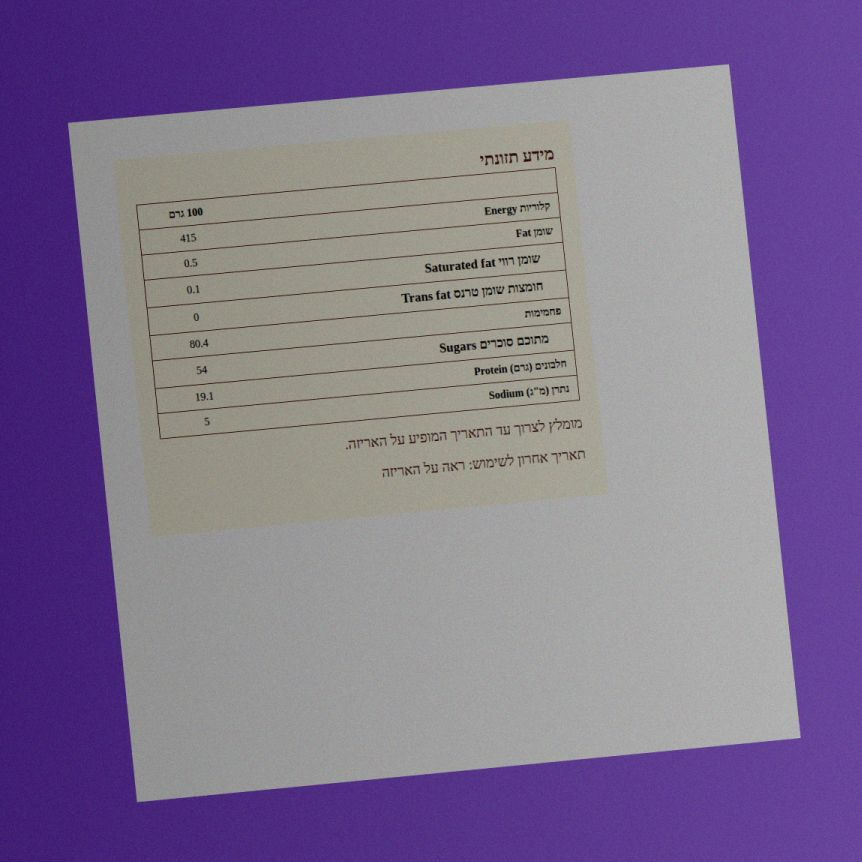carbs: (188, 335, 211, 352)
energy: (178, 230, 198, 246)
fat: (182, 255, 200, 271)
protein: (193, 388, 216, 405)
